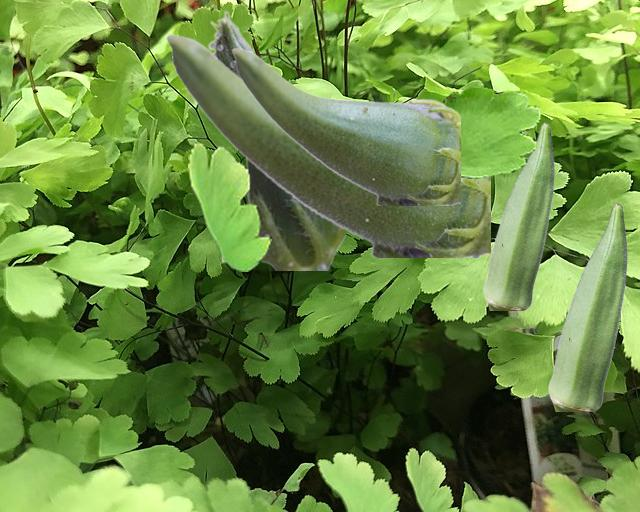okra: (165, 33, 489, 256), (231, 47, 459, 204), (207, 10, 344, 269), (548, 203, 626, 410), (483, 122, 553, 309)
